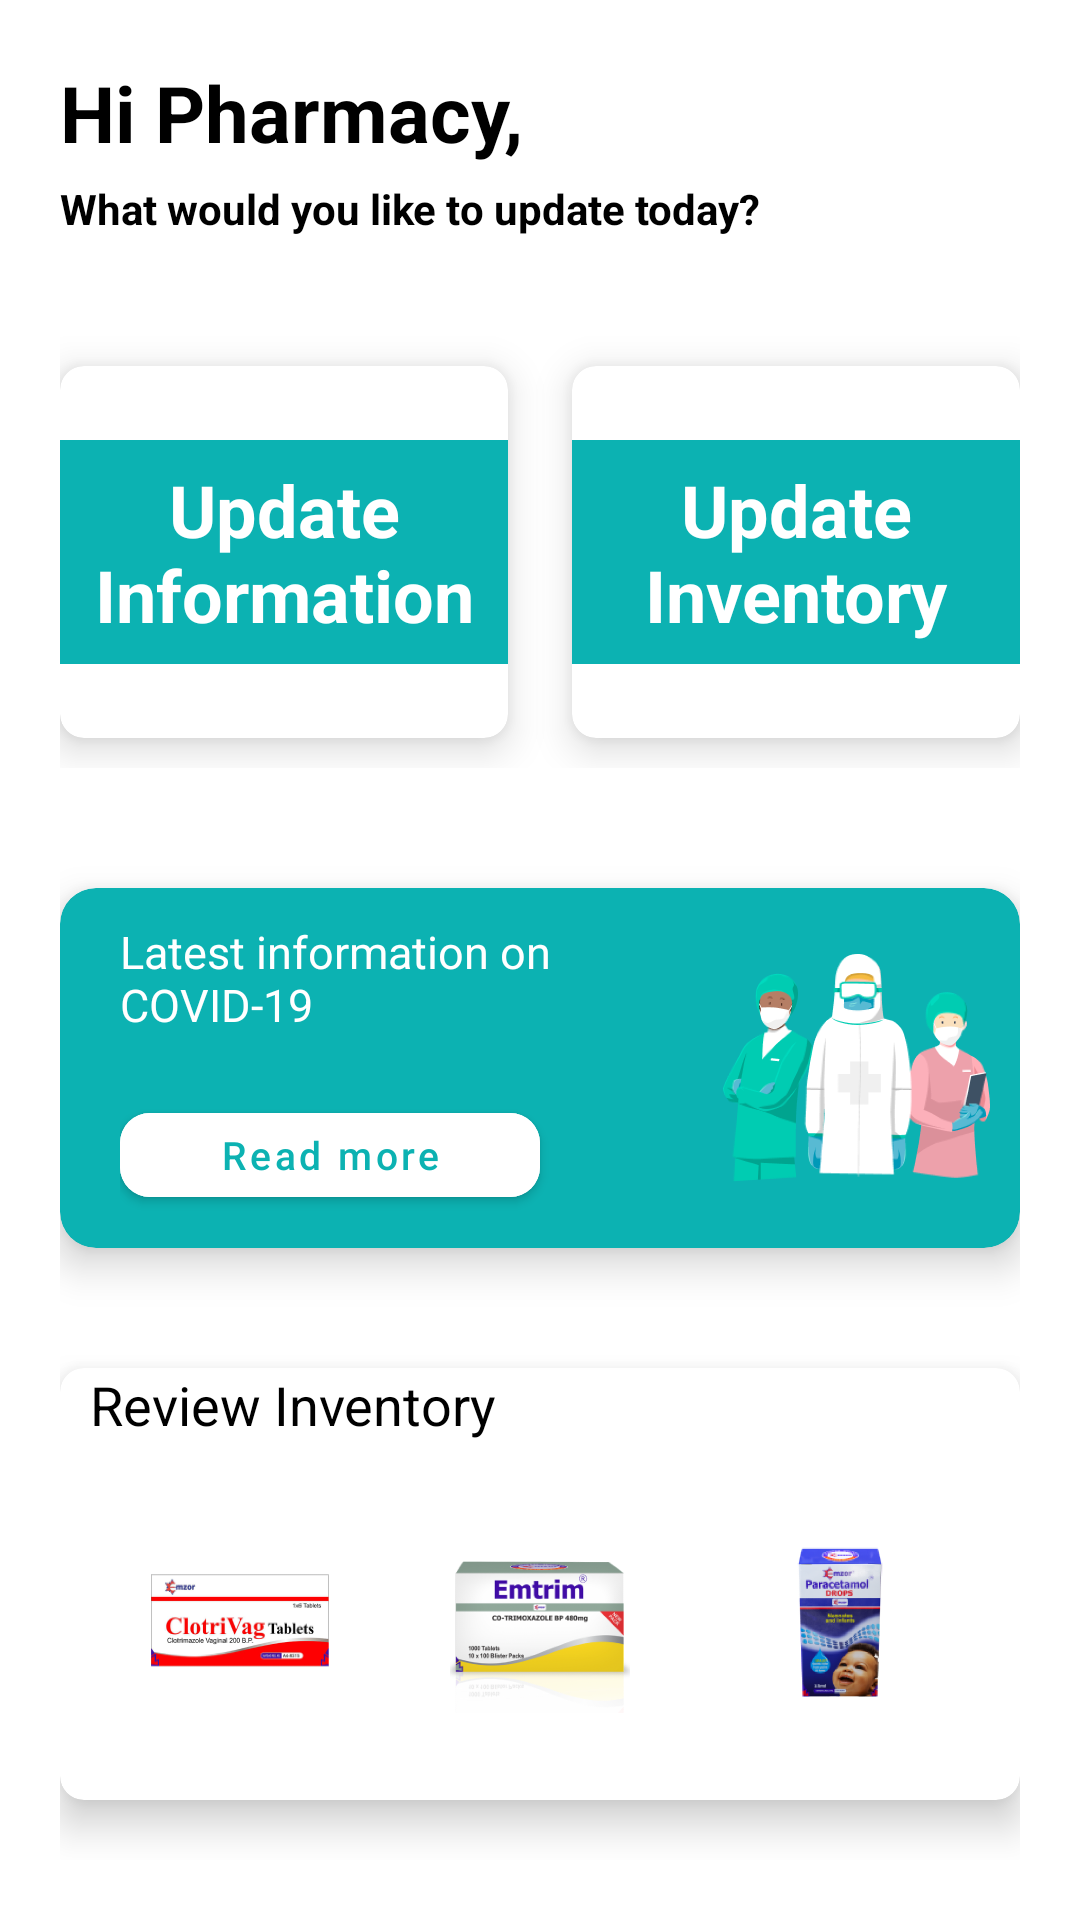

Screen size 1080w x 1920h. Icon name, then its center in pixels as (x=x, y=y):
pharmacy workers illustration: (x=856, y=1067)
